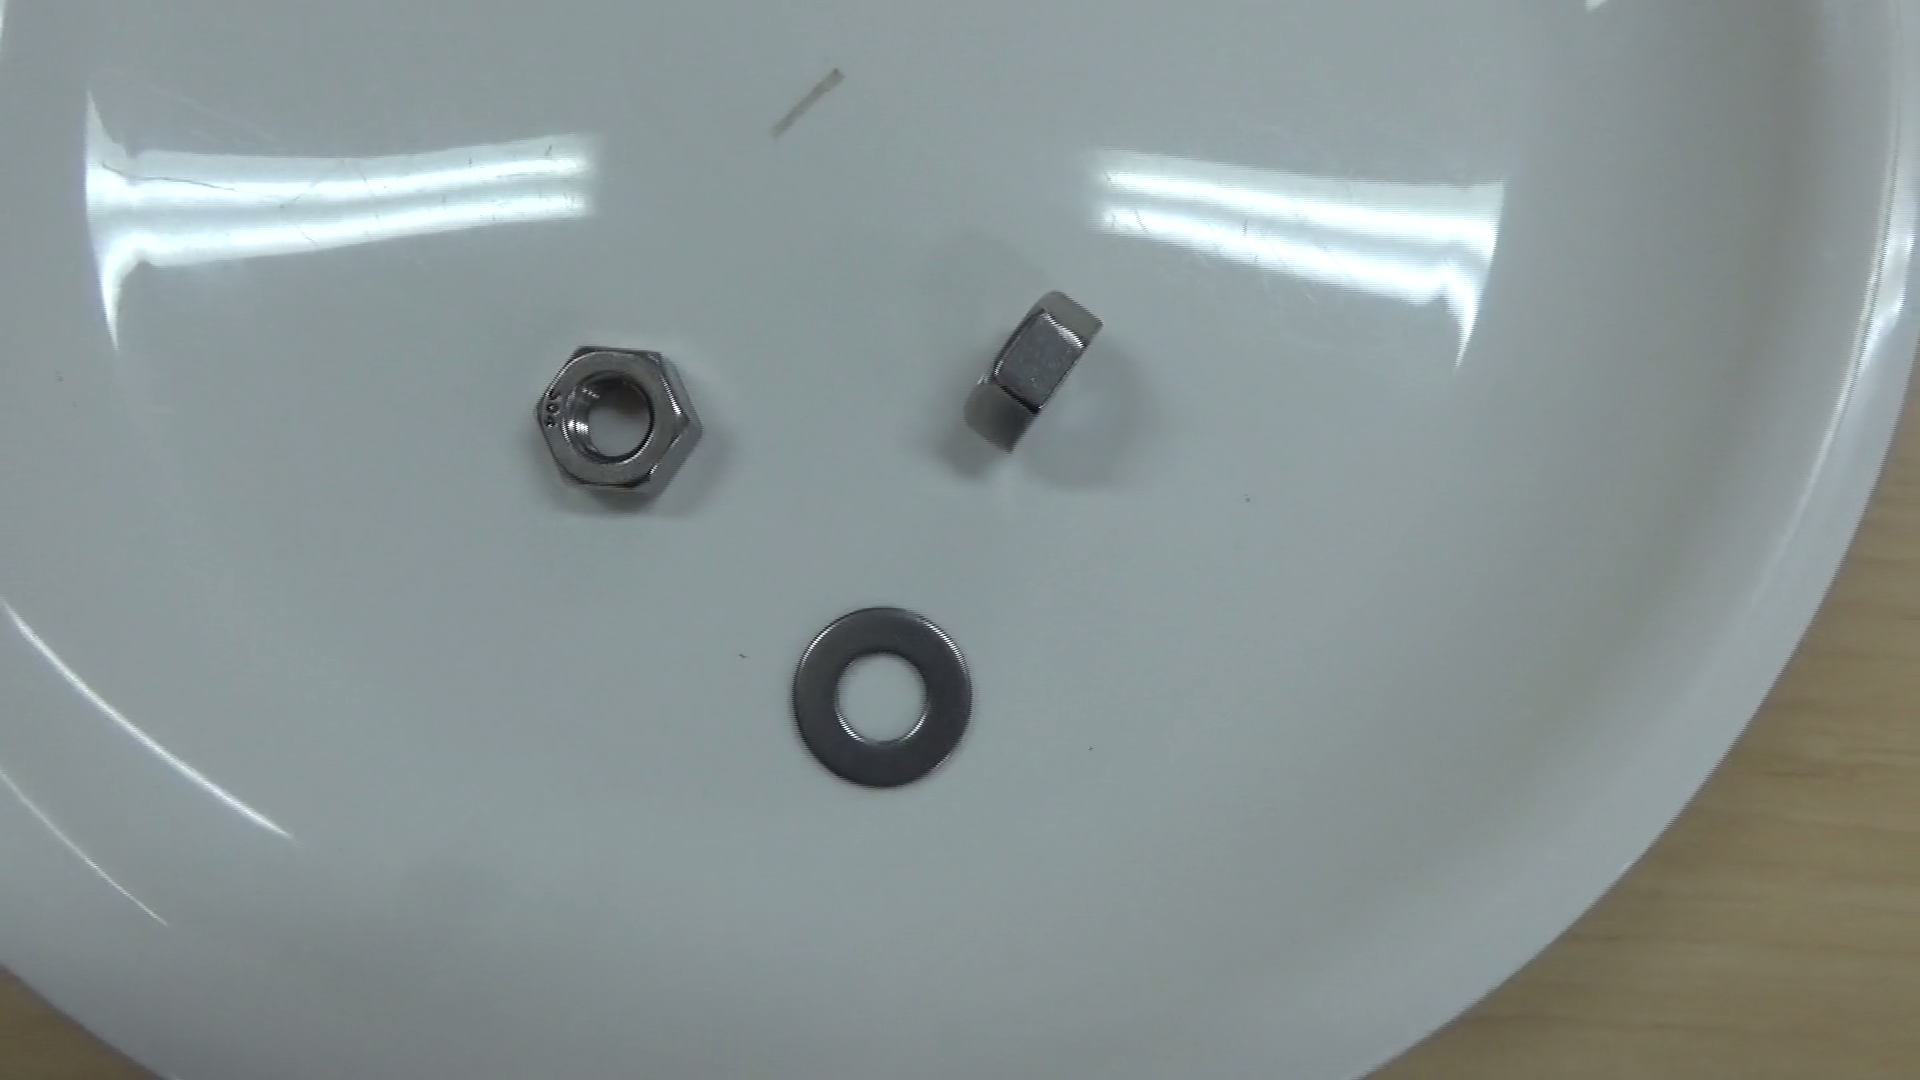nut: (524, 331, 709, 516), (942, 276, 1110, 462)
washer: (779, 595, 984, 796)
